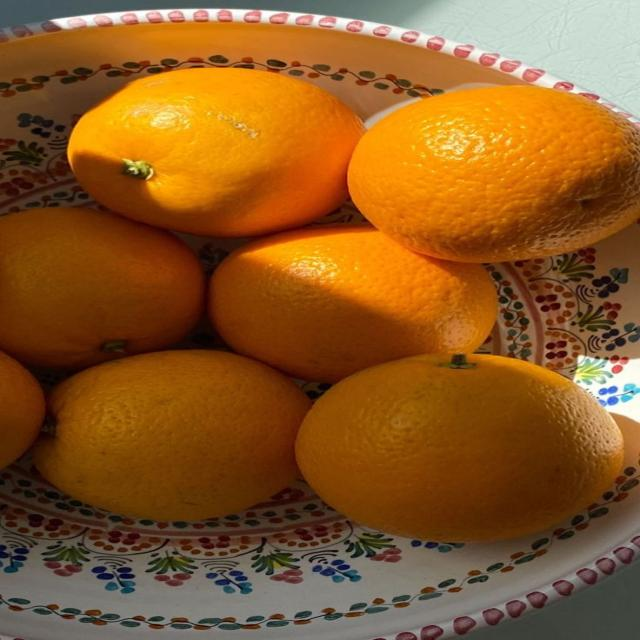orange: (297, 355, 622, 541), (349, 87, 639, 262), (69, 68, 362, 236), (34, 351, 309, 520), (209, 224, 496, 381), (0, 208, 204, 368), (0, 352, 45, 468)
